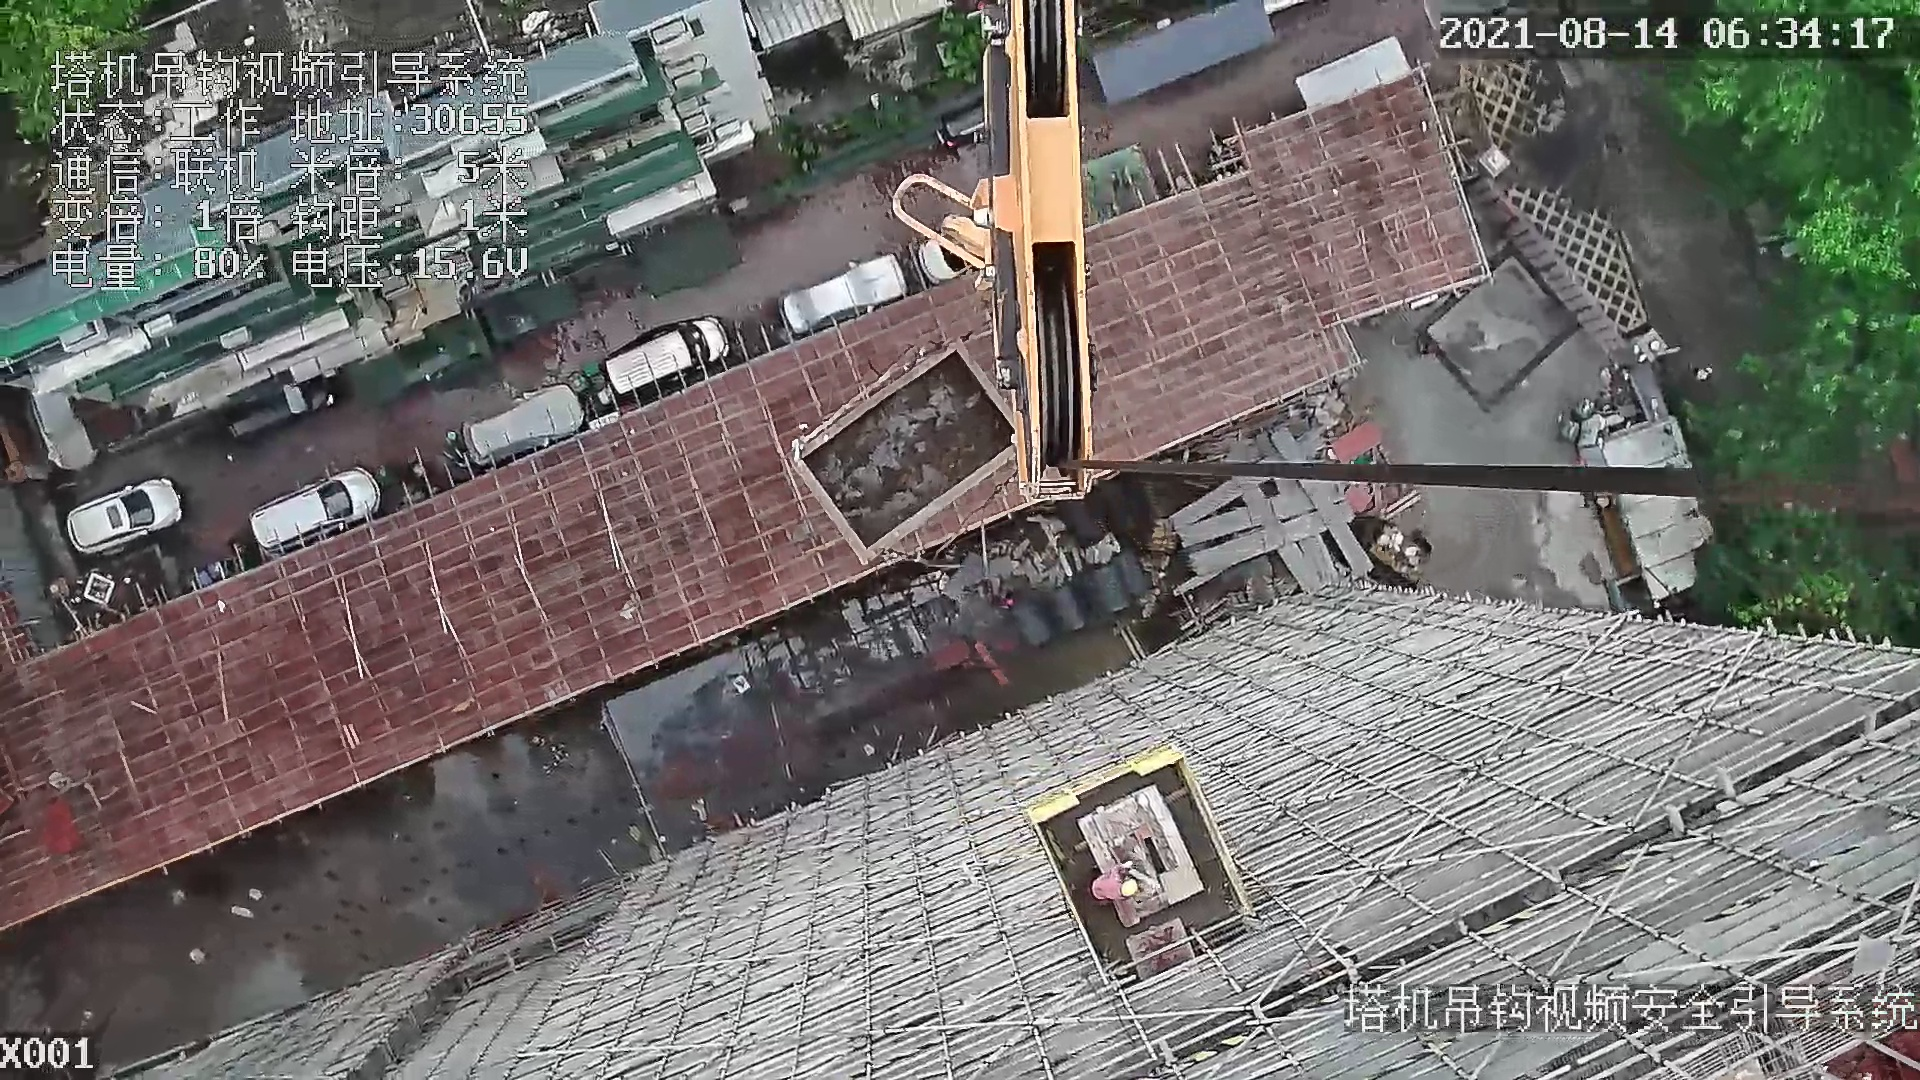helmet: (1121, 879, 1141, 902)
hook: (892, 1, 1103, 506)
hopper: (779, 341, 1028, 558)
person: (1083, 854, 1154, 910)
